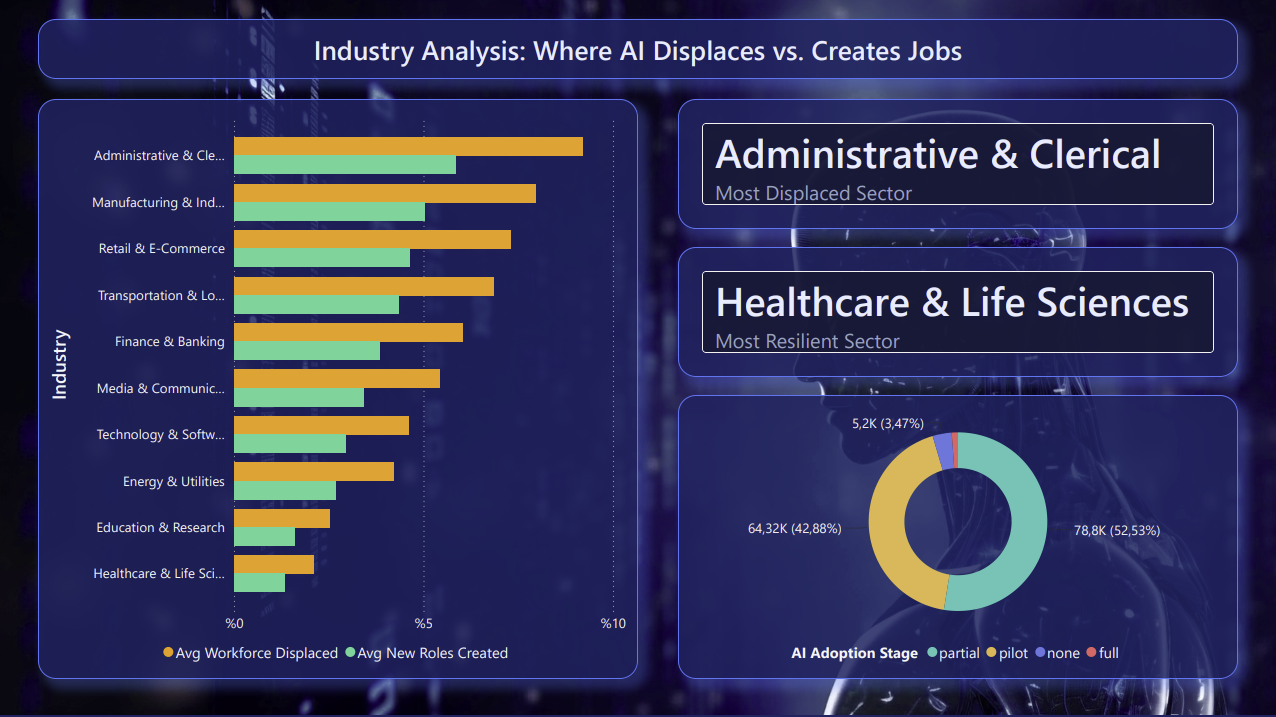

Layout of this report page (visuals, bound fields, positions):
{"tool":"powerbi","page":{"name":"Industry Analysis","canvas":[1280,720],"ordinal":2},"visuals":[{"type":"clusteredBarChart","title":"Workforce Impact by Industry Sector","fields":{"Category":["ai_workforce_displacement_global_2020_2026.industry_sector"],"Y":["ai_workforce_displacement_global_2020_2026.Avg Workforce Displaced %","ai_workforce_displacement_global_2020_2026.Avg New Roles Created %"]},"box":[40,100,600,580],"z":0},{"type":"textbox","box":[40.4,20,1200,60],"z":1000},{"type":"cardVisual","fields":{"Data":["ai_workforce_displacement_global_2020_2026.Most Resilient Sector"]},"box":[680,248,560,130],"z":2000},{"type":"donutChart","title":"Company AI Adoption Stage","fields":{"Category":["ai_company_adoption.ai_adoption_stage"],"Y":["CountNonNull(ai_company_adoption.response_id)"]},"box":[680,396,560,284],"z":3000},{"type":"cardVisual","fields":{"Data":["ai_workforce_displacement_global_2020_2026.Most Displaced Sector"]},"box":[680,100,560,130],"z":4000}]}

Visuals, with their boxes in screenshot pixels (x1, y1, x2, y2), scaled from the page's 1280x720 canvas onto the 1276x717 screenshot:
"Workforce Impact by Industry Sector" clusteredBarChart: left=40, top=100, right=638, bottom=677
textbox: left=40, top=20, right=1237, bottom=80
cardVisual - ai_workforce_displacement_global_2020_2026.Most Resilient Sector: left=678, top=247, right=1236, bottom=376
"Company AI Adoption Stage" donutChart: left=678, top=394, right=1236, bottom=677
cardVisual - ai_workforce_displacement_global_2020_2026.Most Displaced Sector: left=678, top=100, right=1236, bottom=229
